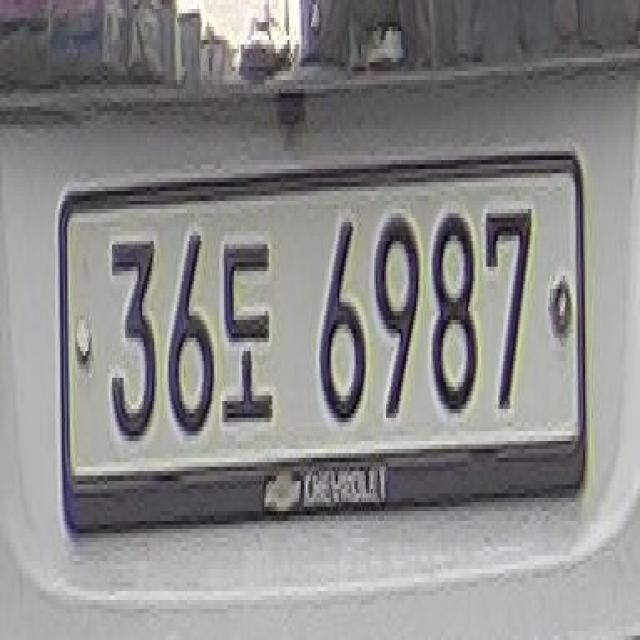3: (104, 218, 158, 444)
6: (163, 222, 216, 436), (316, 214, 366, 422)
7: (485, 204, 533, 404)
8: (430, 209, 480, 413)
9: (372, 209, 420, 422)
do: (216, 231, 274, 431)
license_plate: (58, 156, 585, 484)
